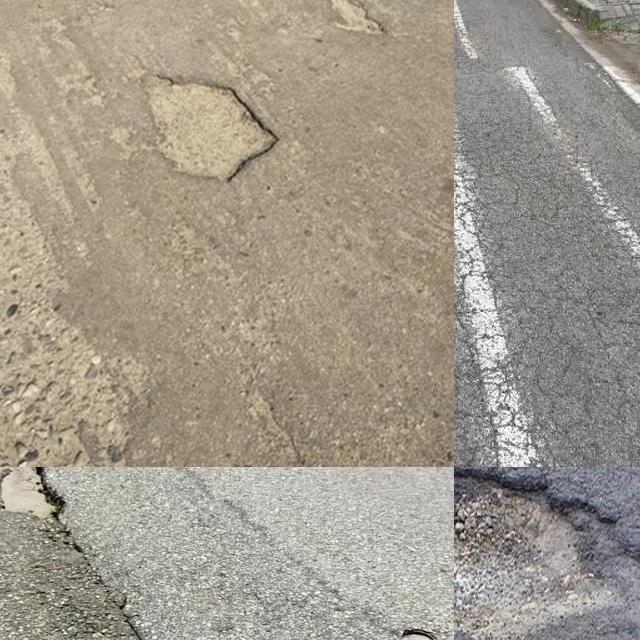Lubang: (454, 467, 640, 640), (143, 78, 281, 178), (0, 467, 63, 519), (332, 0, 387, 29)
Memanjang: (0, 467, 159, 640)
Retak Buaya: (454, 161, 640, 467)
